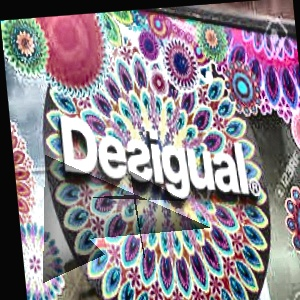desigual: (239, 93, 296, 190)
